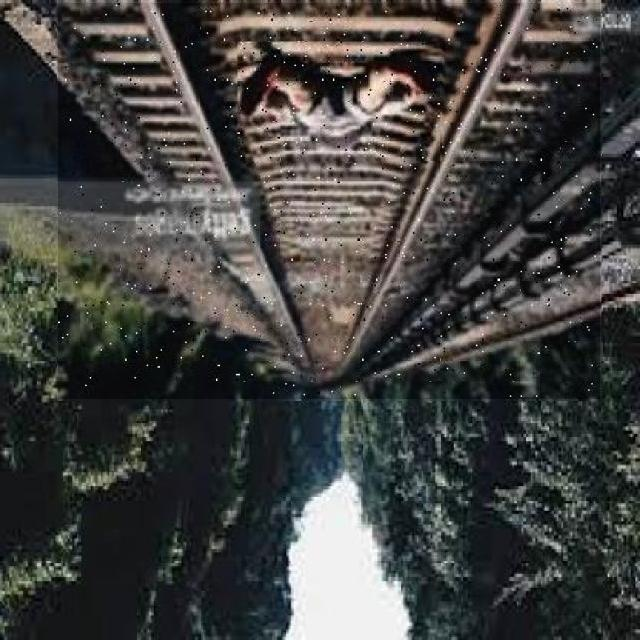rail: (60, 4, 601, 400)
